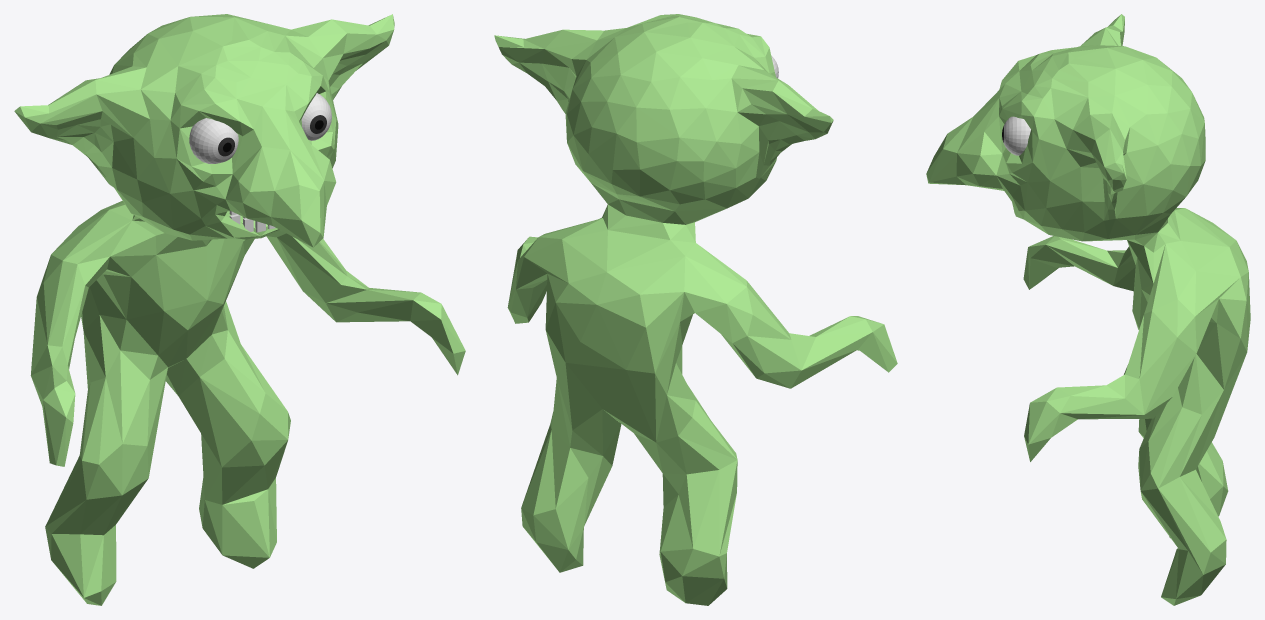
The model's file is GobboFeet3.fbx.
3 renders of one model, left to right at view 1: azimuth 30°, elevation 25°; view 2: azimuth 150°, elevation 25°; view 3: azimuth 270°, elevation 25°, orthographic. The views are drawn at different scales.
Visible parts, largest first — view 1: Cube, Sphere.001, Sphere; view 2: Cube; view 3: Cube, Sphere.
Part boxes in pixels (x1,y1,x2,y2): Cube: [14, 14, 465, 605]; Sphere.001: [189, 118, 238, 163]; Sphere: [301, 93, 331, 140]; Cube: [494, 14, 897, 605]; Cube: [926, 14, 1250, 605]; Sphere: [1002, 116, 1030, 155].
Bounding box in the file's own units: 335 × 459 × 261.
